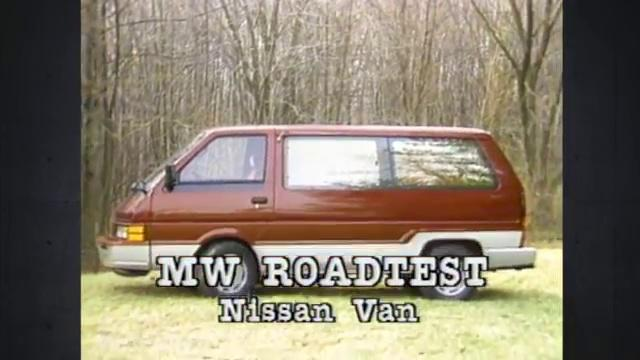van: (93, 121, 537, 289)
